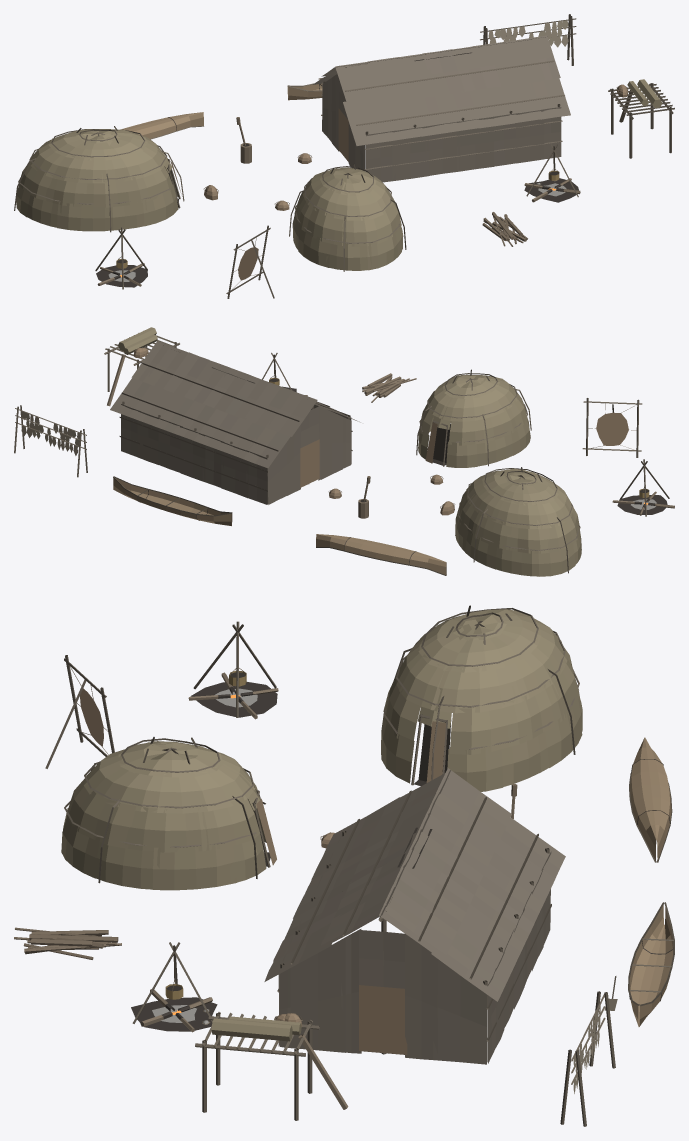
Rendered from potawatomi_trading_lodges_1812__camp_1812.glb.
3 views of the same model, one above another, from view 1: azimuth 30°, elevation 25°; view 2: azimuth 150°, elevation 25°; view 3: azimuth 270°, elevation 25° (orthographic). The views are drawn at different scales.
Visible parts, largest first — view 1: potawatomi_trading_lodges_1812__camp_1812; view 2: potawatomi_trading_lodges_1812__camp_1812; view 3: potawatomi_trading_lodges_1812__camp_1812.
Part boxes in pixels (x1,y1,x2,y2): potawatomi_trading_lodges_1812__camp_1812: (14, 14, 674, 298); potawatomi_trading_lodges_1812__camp_1812: (14, 327, 674, 576); potawatomi_trading_lodges_1812__camp_1812: (14, 605, 674, 1126).
Bounding box in the file's own units: 22.79 × 3.45 × 14.07.
